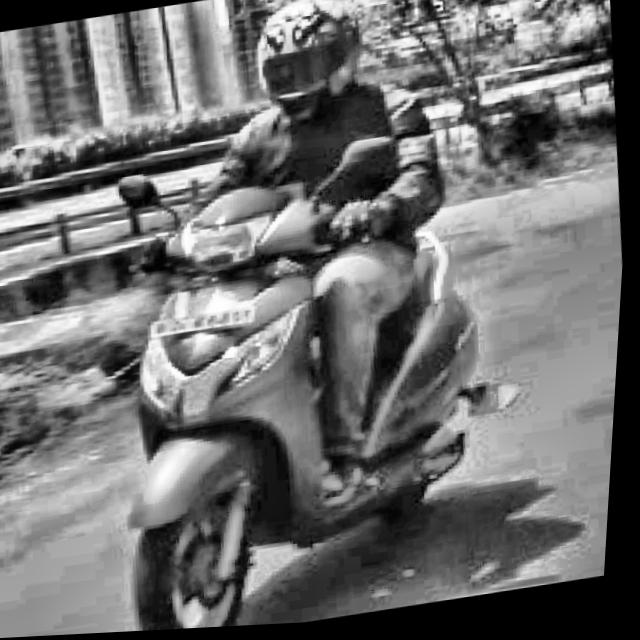motorcycle: (63, 94, 555, 636)
